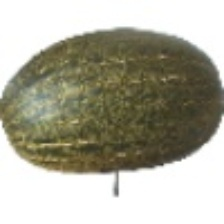honeydew: (27, 10, 196, 178)
